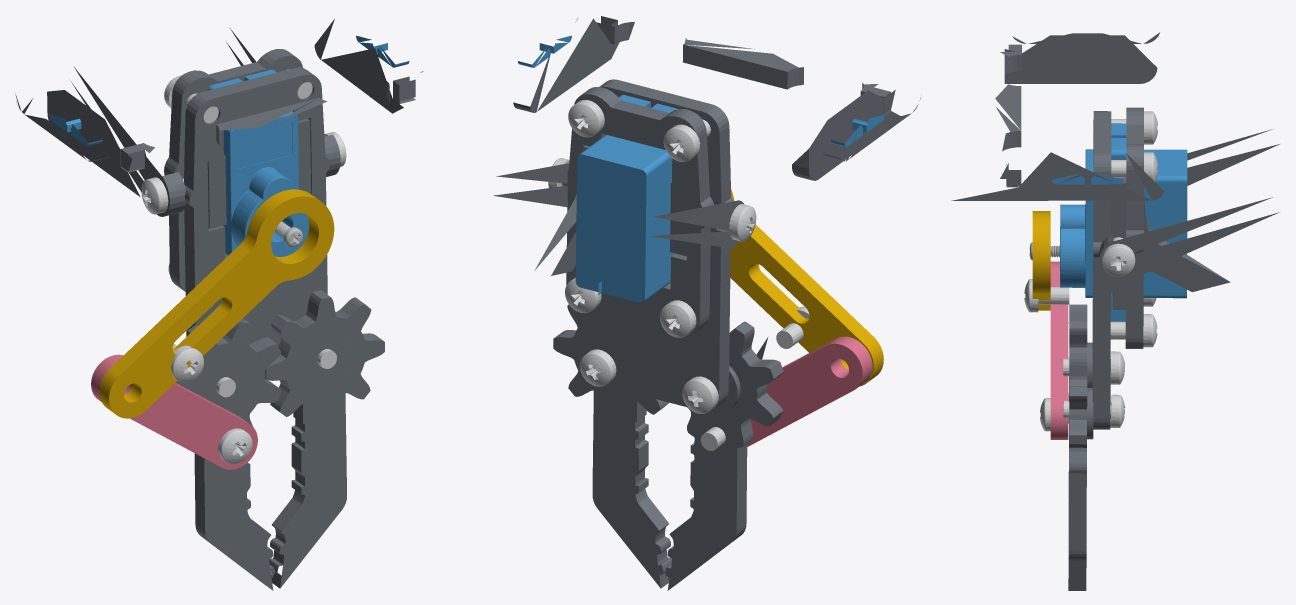
The model's file is garra_montada_inferior_v1.glb.
The picture shows the model from 3 angles, left to right: view 1: azimuth 30°, elevation 25°; view 2: azimuth 150°, elevation 25°; view 3: azimuth 270°, elevation 25°; orthographic projection. The views are drawn at different scales.
Parts seen in each view (by area): view 1: mecanica_braco_pecas_impressas_pla, haste_articulacao_olhal_v1, servos_sg90_4x_azul, haste_articulacao_curta_v1, cruzetas_horns_nylon_branco; view 2: mecanica_braco_pecas_impressas_pla, servos_sg90_4x_azul, cruzetas_horns_nylon_branco, haste_articulacao_olhal_v1, haste_articulacao_curta_v1; view 3: mecanica_braco_pecas_impressas_pla, servos_sg90_4x_azul, cruzetas_horns_nylon_branco, haste_articulacao_curta_v1, haste_articulacao_olhal_v1.
Boxes of the visible parts, left/top/right/bottom form: mecanica_braco_pecas_impressas_pla: left=15, top=19, right=423, bottom=590; haste_articulacao_olhal_v1: left=99, top=189, right=334, bottom=418; servos_sg90_4x_azul: left=49, top=35, right=409, bottom=256; haste_articulacao_curta_v1: left=91, top=354, right=257, bottom=469; cruzetas_horns_nylon_branco: left=141, top=69, right=346, bottom=463; mecanica_braco_pecas_impressas_pla: left=493, top=16, right=920, bottom=590; servos_sg90_4x_azul: left=518, top=35, right=884, bottom=302; cruzetas_horns_nylon_branco: left=548, top=100, right=809, bottom=450; haste_articulacao_olhal_v1: left=730, top=189, right=883, bottom=386; haste_articulacao_curta_v1: left=747, top=336, right=872, bottom=446; mecanica_braco_pecas_impressas_pla: left=951, top=32, right=1279, bottom=590; servos_sg90_4x_azul: left=1052, top=123, right=1187, bottom=321; cruzetas_horns_nylon_branco: left=1024, top=111, right=1157, bottom=431; haste_articulacao_curta_v1: left=1050, top=261, right=1068, bottom=439; haste_articulacao_olhal_v1: left=1032, top=211, right=1050, bottom=310.
Bounding box in the file's own units: 62.45 × 90.11 × 55.8.
